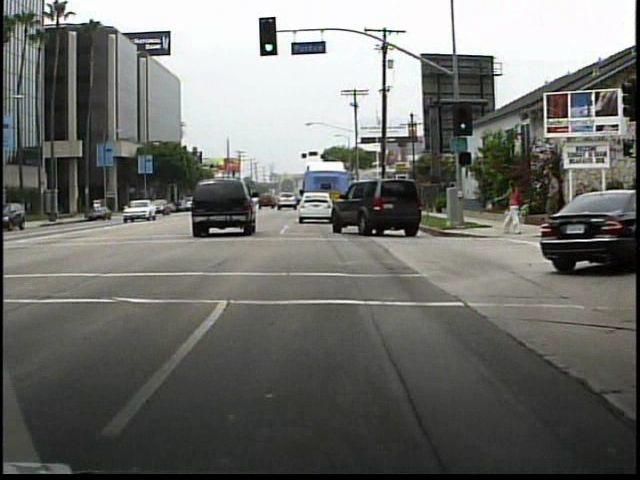person: (537, 167, 565, 229), (499, 174, 526, 237)
